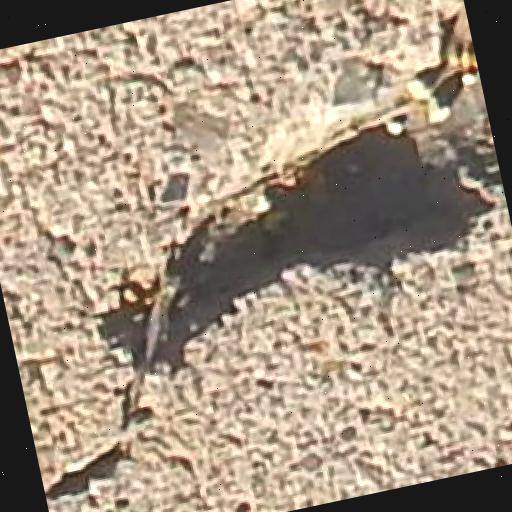spalling: (43, 0, 501, 512)
